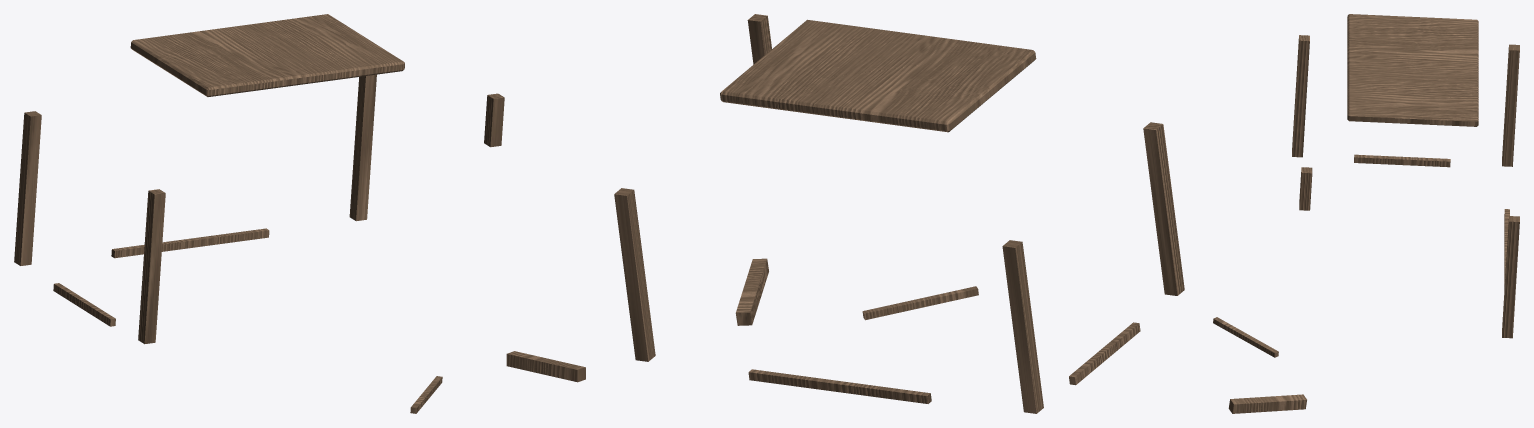
File: broken_table.fbx
3 renders of one model, left to right at view 1: azimuth 30°, elevation 25°; view 2: azimuth 150°, elevation 25°; view 3: azimuth 270°, elevation 25°, orthographic. The views are drawn at different scales.
Visible parts, largest first — view 1: broken_table; view 2: broken_table; view 3: broken_table.
Boxes of the visible parts, x1,y1,x2,y2 form: broken_table: [14, 14, 585, 413]; broken_table: [614, 14, 1184, 413]; broken_table: [1213, 14, 1519, 413].
Size of the model in its own units: 0.9204 by 0.7009 by 0.7007.
Materials: 1 (1 with a texture image).
